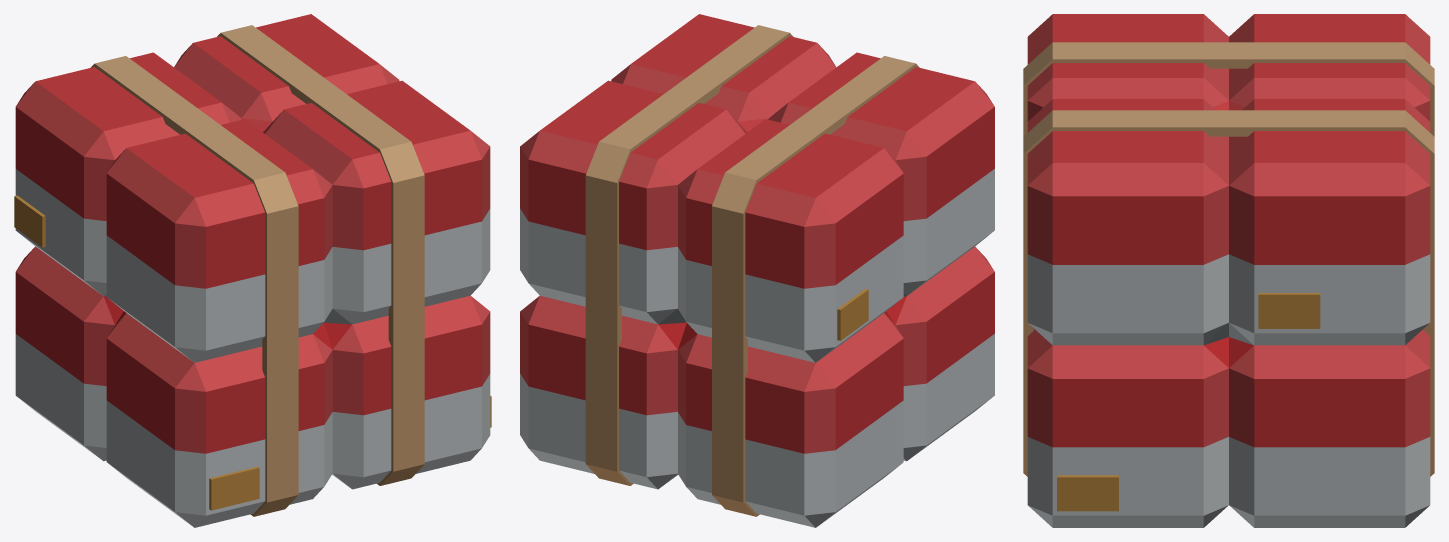
File: kk_cargo_stack.obj
3 renders of one model, left to right at view 1: azimuth 30°, elevation 25°; view 2: azimuth 150°, elevation 25°; view 3: azimuth 270°, elevation 25°, orthographic. The views are drawn at different scales.
Bounding box in the file's own units: 3 × 3 × 3.
